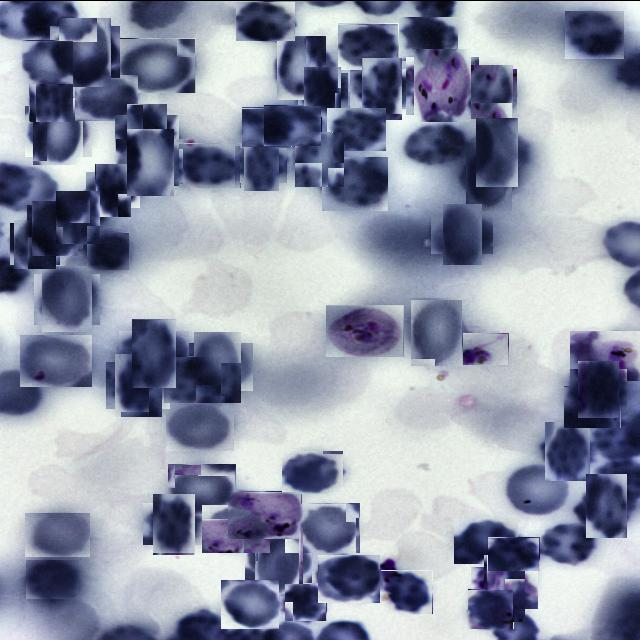red blood cell: (120, 37, 196, 92), (502, 462, 572, 517), (54, 20, 116, 81), (20, 334, 92, 386), (406, 300, 466, 360), (322, 156, 388, 210), (188, 336, 247, 396), (29, 101, 88, 160), (168, 463, 236, 513), (202, 503, 271, 552), (250, 530, 308, 588), (38, 270, 96, 328), (460, 147, 518, 205), (166, 402, 234, 450), (125, 324, 182, 381), (274, 38, 330, 96), (122, 133, 178, 190), (469, 123, 525, 179), (110, 357, 166, 412), (299, 502, 360, 552), (453, 517, 518, 563), (318, 554, 380, 602), (402, 122, 468, 166), (75, 74, 138, 120), (538, 518, 597, 567), (338, 22, 399, 69), (540, 424, 594, 477), (580, 479, 634, 532), (25, 512, 90, 556), (221, 579, 279, 628), (565, 10, 624, 58), (179, 142, 241, 187), (293, 132, 345, 185), (282, 449, 344, 493), (164, 355, 222, 402), (121, 108, 173, 160), (148, 497, 200, 549), (356, 63, 407, 114), (399, 16, 458, 60), (327, 107, 386, 150), (465, 66, 515, 116), (437, 208, 487, 258), (30, 202, 80, 252), (574, 364, 624, 414), (236, 0, 296, 40), (564, 385, 621, 427), (264, 104, 322, 145), (54, 192, 102, 240), (381, 569, 433, 613), (22, 39, 74, 83), (26, 560, 79, 600), (12, 220, 58, 266), (90, 167, 135, 212), (242, 106, 292, 146), (30, 76, 74, 120), (300, 69, 344, 113), (240, 143, 283, 186), (468, 588, 514, 628), (488, 536, 540, 570), (87, 231, 130, 269), (285, 582, 327, 620)
trophozoite: (410, 52, 476, 118), (326, 304, 404, 356), (228, 490, 302, 538), (570, 330, 640, 380), (478, 560, 532, 614), (463, 332, 509, 364)
